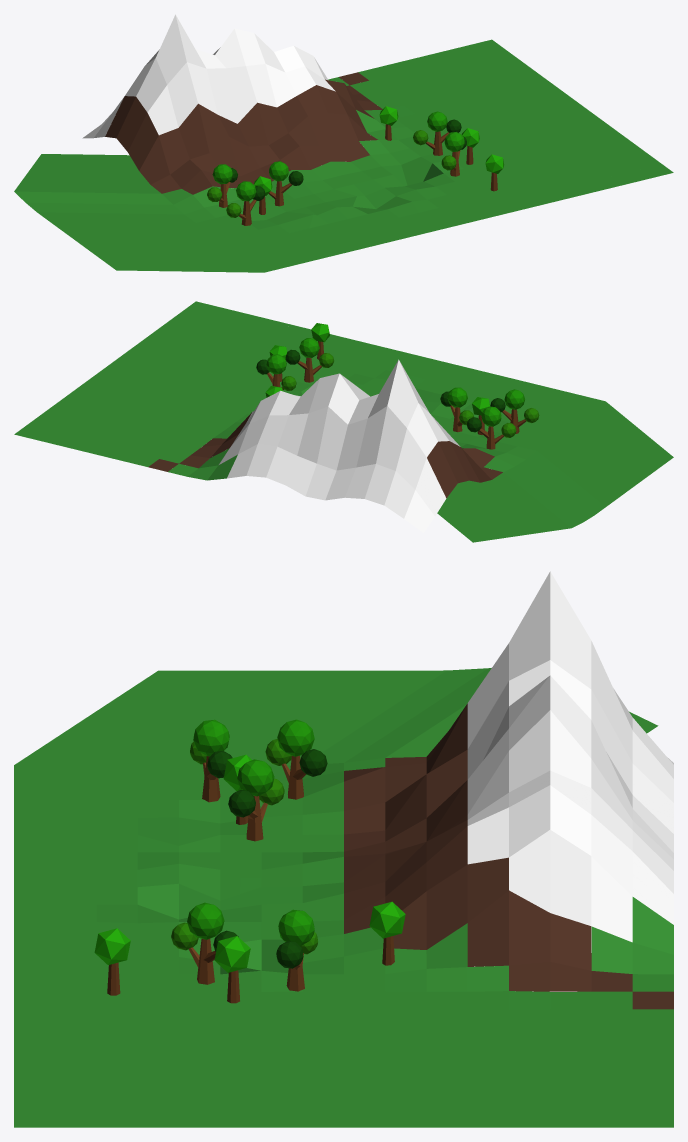
The model's file is mountain.glb.
3 views of the same model, one above another, from view 1: azimuth 30°, elevation 25°; view 2: azimuth 150°, elevation 25°; view 3: azimuth 270°, elevation 25° (orthographic). The views are drawn at different scales.
Visible parts, largest first — view 1: Icosphere.001; view 2: Icosphere.001; view 3: Icosphere.001.
Boxes of the visible parts, bbox=[...] form: Icosphere.001: bbox=[14, 14, 673, 272]; Icosphere.001: bbox=[14, 301, 673, 542]; Icosphere.001: bbox=[14, 571, 673, 1127].
Size of the model in its own units: 26.29 by 8.19 by 16.
